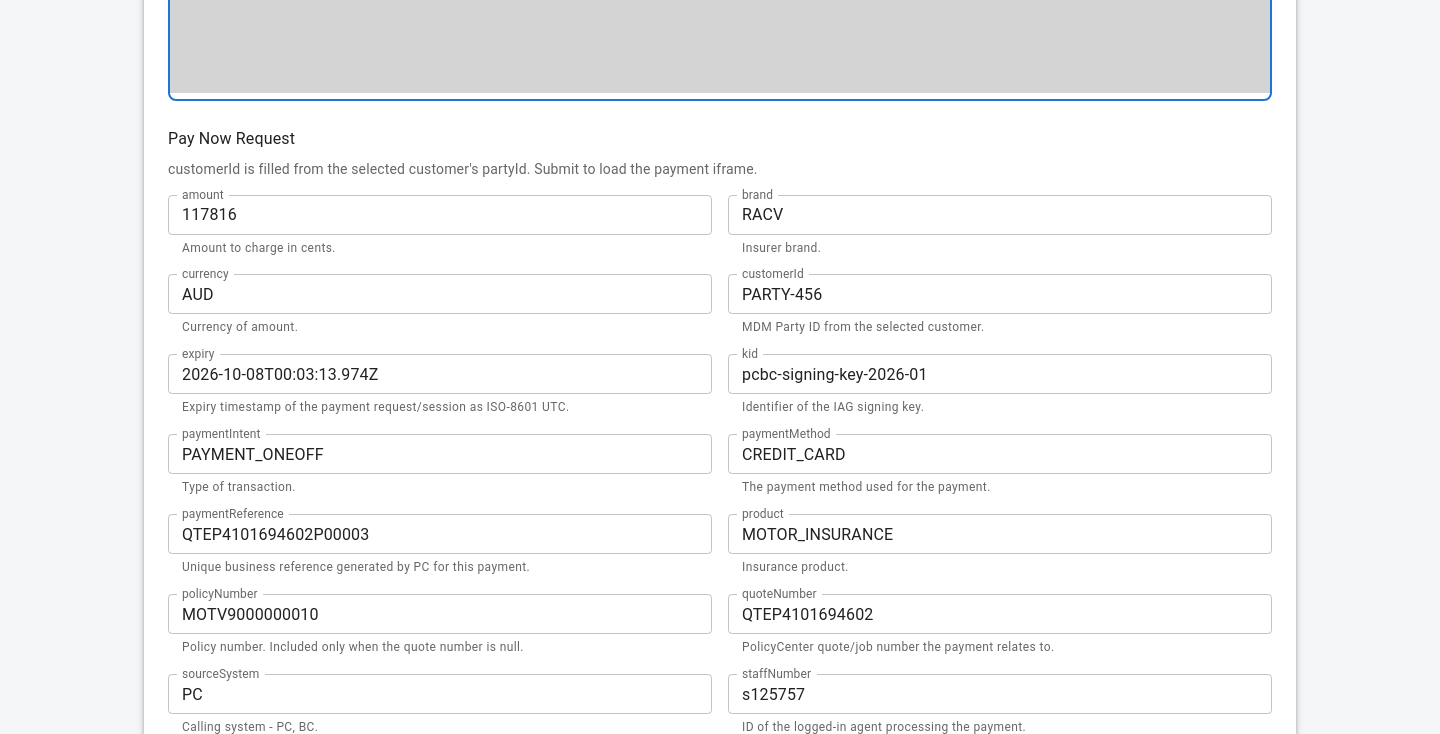
Test: rejects an invalid expiry and currency before rendering the payment iframe
The width and height of the screenshot is (1440, 734).
(page scrolled)
Replace the text in the field labelled "expiry" with "08-10-2026": (440, 374) [168, 354, 712, 394]
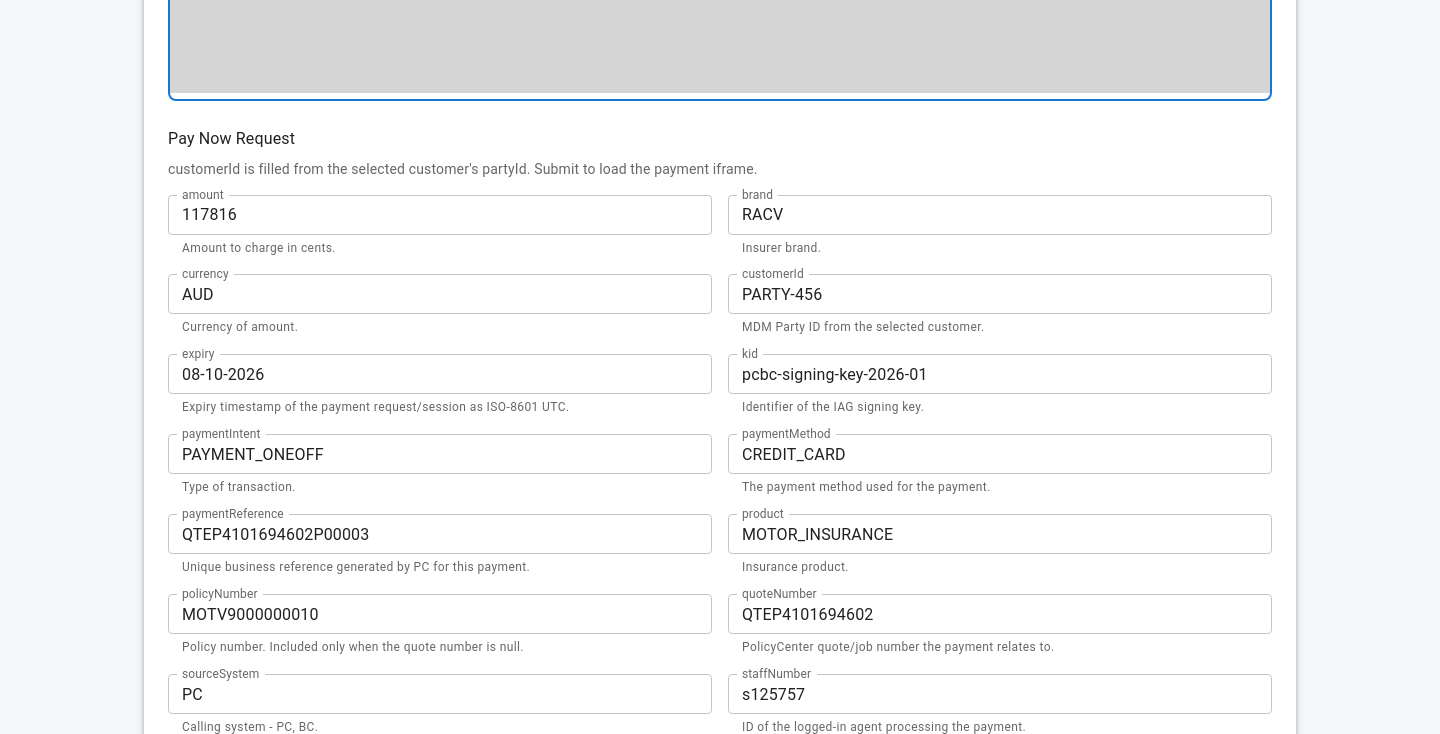
Replace the text in the field labelled "currency" with "aud": (440, 294) [168, 274, 712, 314]
(page scrolled)
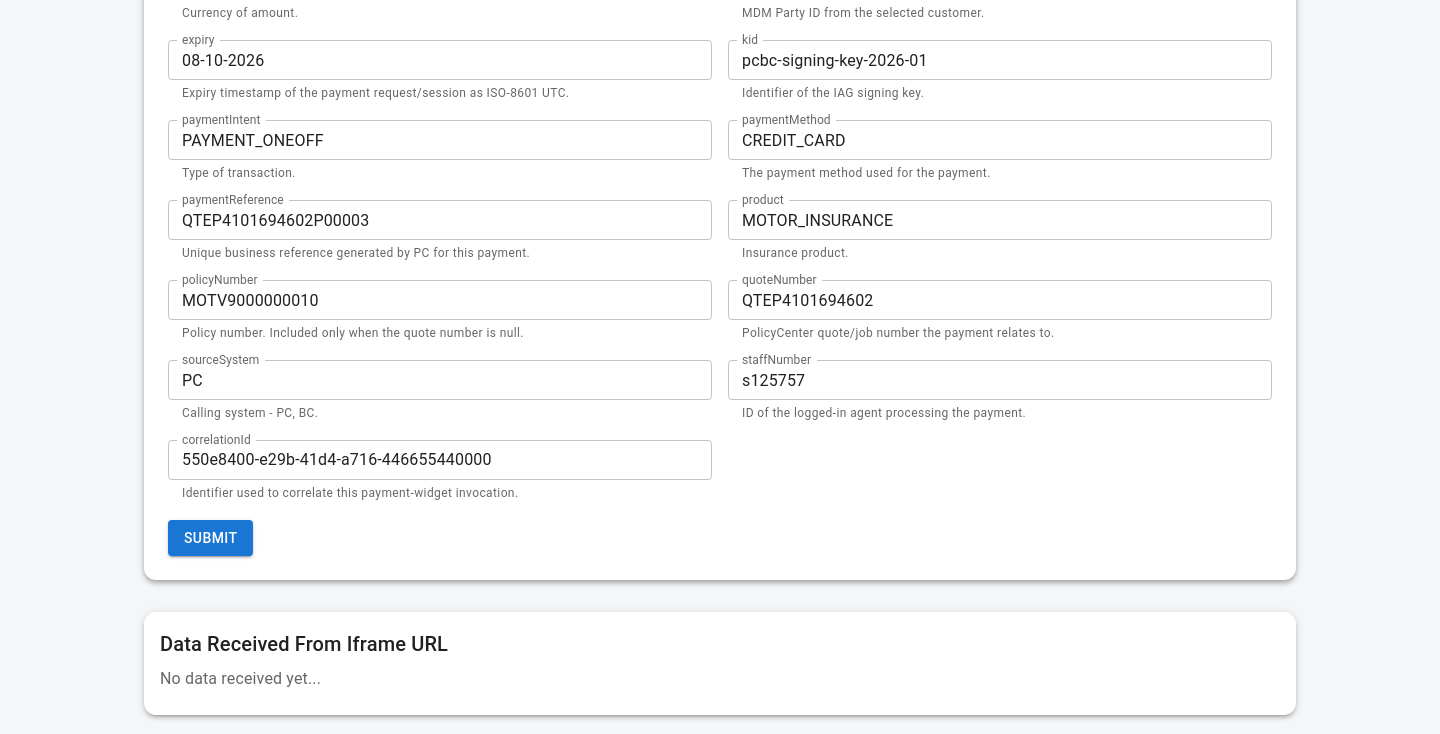
Click the button "Submit": (211, 538) [168, 520, 253, 556]
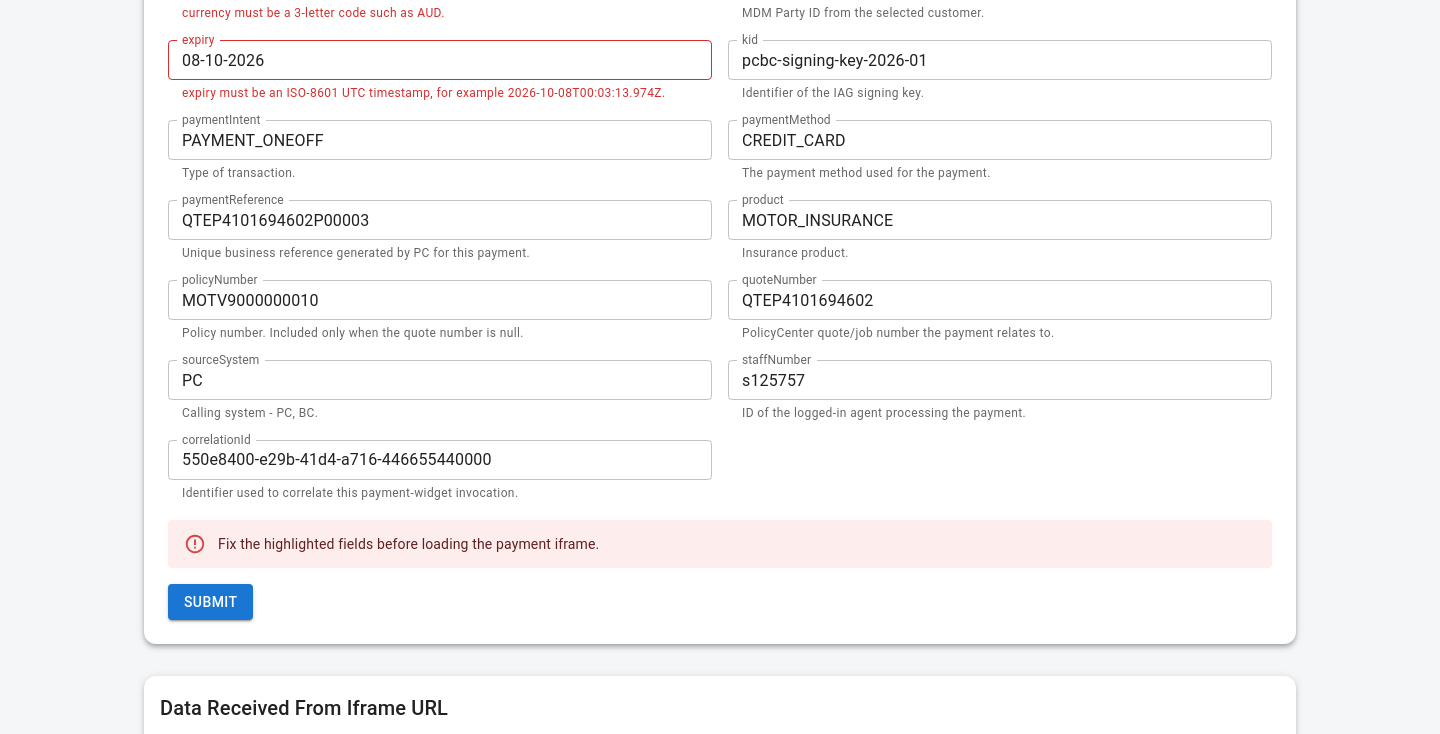
Now the text "expiry must be an ISO-8601 UTC timestamp, for example 2026-10-08T00:03:13.974Z." is shown, box [182, 84, 698, 104]
Now the text "currency must be a 3-letter code such as AUD." is shown, box [182, 6, 445, 20]
Now the text "Fix the highlighted fields" is shown, box [218, 536, 600, 552]
